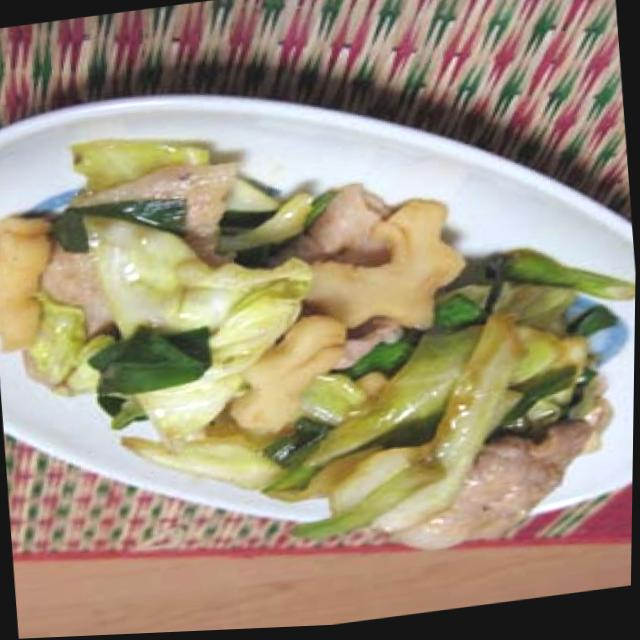蔬菜料理: (0, 63, 639, 604)
